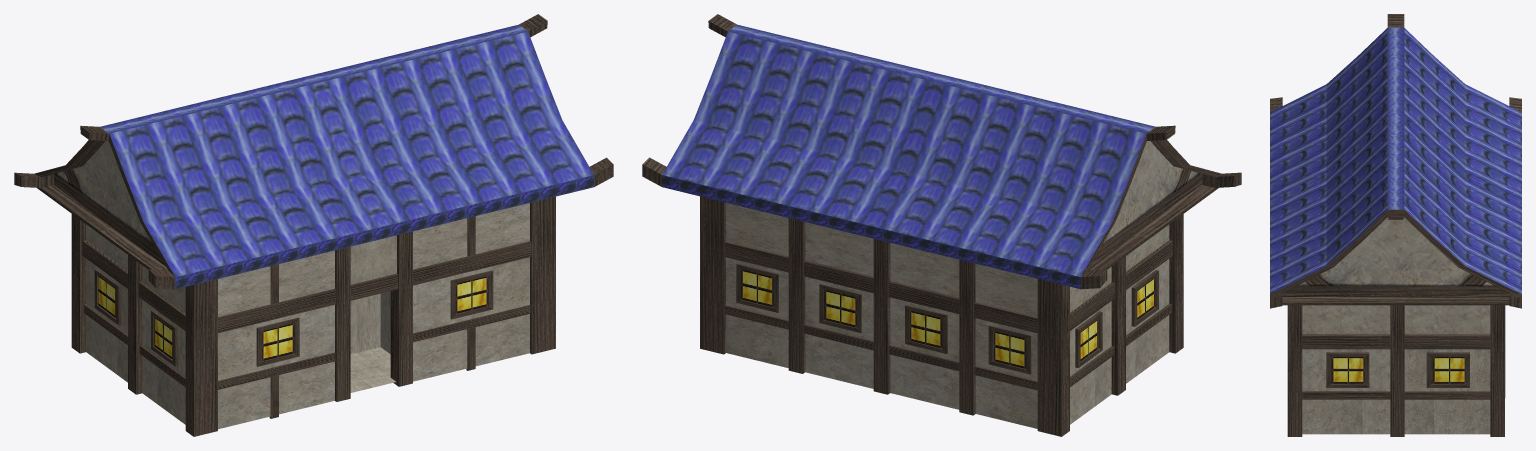
Rendered from casa-oriental-04-b.fbx.
The picture shows the model from 3 angles, left to right: view 1: azimuth 30°, elevation 25°; view 2: azimuth 150°, elevation 25°; view 3: azimuth 270°, elevation 25°; orthographic projection. The views are drawn at different scales.
Parts seen in each view (by area): view 1: Cube.000, Cube.001, Cube.002; view 2: Cube.000, Cube.002; view 3: Cube.000, Cube.002.
Part boxes in pixels (box(x1,y1,x2,y2)): Cube.000: box(14, 14, 613, 436); Cube.001: box(350, 291, 395, 392); Cube.002: box(98, 276, 488, 360); Cube.000: box(642, 14, 1241, 436); Cube.002: box(740, 269, 1155, 368); Cube.000: box(1270, 14, 1521, 436); Cube.002: box(1330, 357, 1465, 383).
Bounding box in the file's own units: 9.06 × 5.24 × 4.85.
